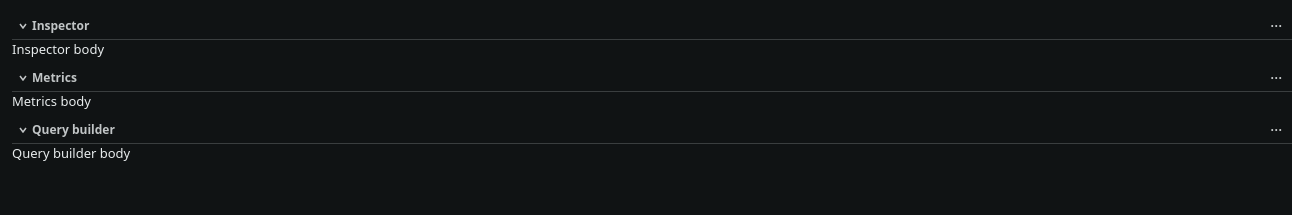
Test: SidePanelStack headers (ADR-097 step 1, design review item 8) › the moves are in a menu on the header
The image size is (1292, 215).
Step 1. Click the button named "Arrange the metrics" → (1276, 78), box x1=1264 y1=66 x2=1288 y2=90
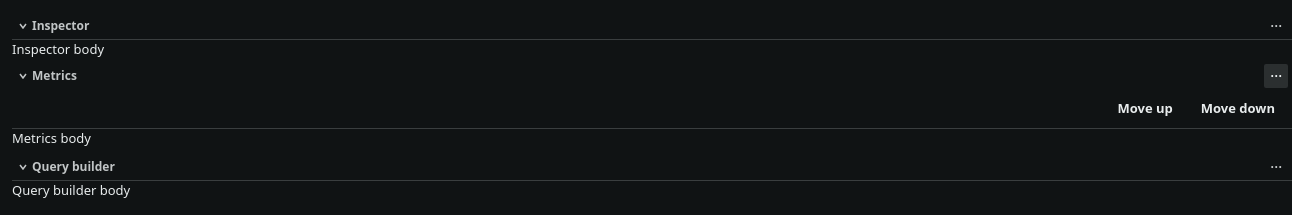
Check: the button named "Arrange the metrics" is expanded, box x1=1264 y1=64 x2=1288 y2=88
Check: the button with aria-label "Move the metrics up" is shown, box x1=1104 y1=92 x2=1186 y2=124
